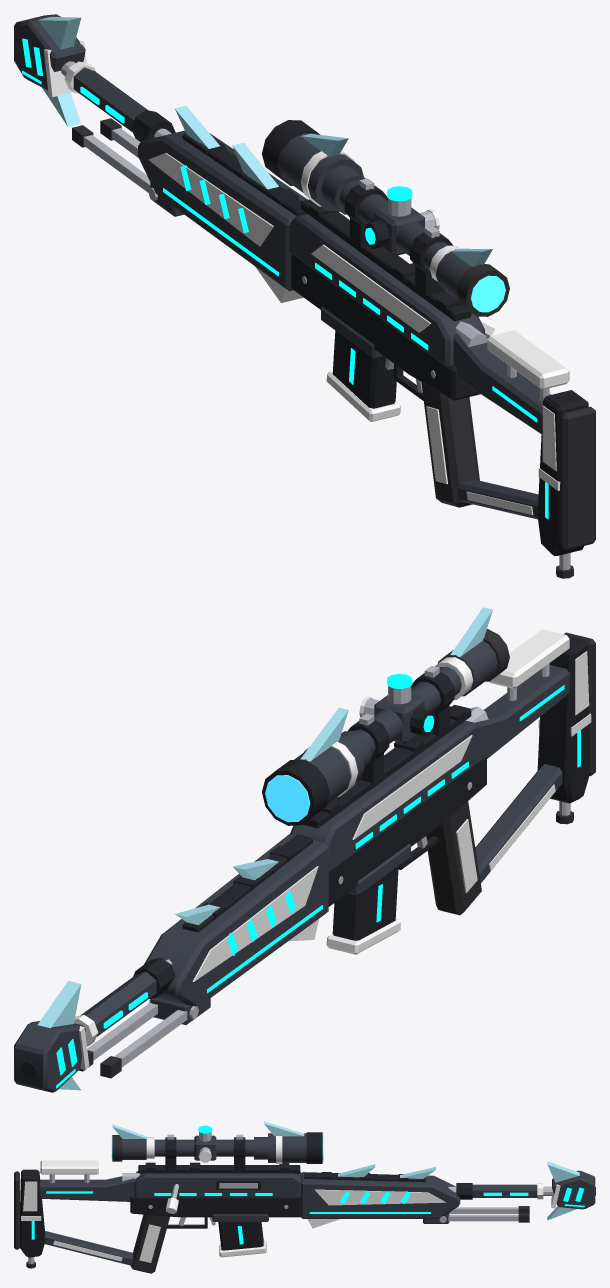
Rendered from Signal7.glb.
The picture shows the model from 3 angles, top to bottom: view 1: azimuth 30°, elevation 25°; view 2: azimuth 150°, elevation 25°; view 3: azimuth 270°, elevation 25°; orthographic projection. The views are drawn at different scales.
Parts seen in each view (by area): view 1: Forend, Receiver, Chassis, ButtPad, StockSpine, Grip, Butt, Mag, CheekRest, ForendPlate, Brake, Bell (+21 smaller); view 2: Forend, Receiver, Chassis, Butt, StockSpine, Brake, Grip, Mag, StockStrut, ForendPlate, CheekRest, SidePlate (+26 smaller); view 3: Forend, Receiver, Chassis, StockSpine, Butt, ForendPlate, Rail, Brake, Mag, Grip, ScopeTube, StockStrut (+27 smaller).
Part boxes in pixels (box(x1,y1,x2,y2)): Forend: box(138, 130, 307, 291); Receiver: box(289, 212, 484, 367); Chassis: box(291, 253, 480, 400); ButtPad: box(560, 406, 595, 550); StockSpine: box(453, 329, 550, 433); Grip: box(421, 382, 479, 507); Butt: box(537, 390, 588, 556); Mag: box(332, 330, 396, 408); CheekRest: box(487, 330, 569, 389); ForendPlate: box(148, 153, 273, 246); Brake: box(14, 14, 85, 90); Bell: box(279, 133, 363, 211); Forend: box(144, 834, 328, 1006); Receiver: box(290, 720, 484, 871); Chassis: box(328, 754, 486, 906); Butt: box(537, 636, 590, 803); StockSpine: box(475, 665, 569, 758); Brake: box(14, 1021, 85, 1092); Grip: box(426, 801, 481, 915); Mag: box(332, 866, 398, 940); StockStrut: box(475, 764, 562, 883); ForendPlate: box(192, 866, 318, 981); CheekRest: box(489, 629, 569, 688); SidePlate: box(352, 735, 472, 839); Forend: box(300, 1172, 460, 1218); Receiver: box(134, 1171, 301, 1197); Chassis: box(130, 1195, 300, 1217); StockSpine: box(40, 1176, 135, 1201); Butt: box(20, 1169, 45, 1257); ForendPlate: box(315, 1189, 445, 1205); Rail: box(138, 1165, 300, 1173); Brake: box(552, 1170, 595, 1209); Mag: box(218, 1222, 263, 1250); Grip: box(130, 1214, 169, 1273); ScopeTube: box(154, 1139, 253, 1156); StockStrut: box(44, 1231, 133, 1265).
Bounding box in the file's own units: 0.5611 × 1.62 × 5.75.
